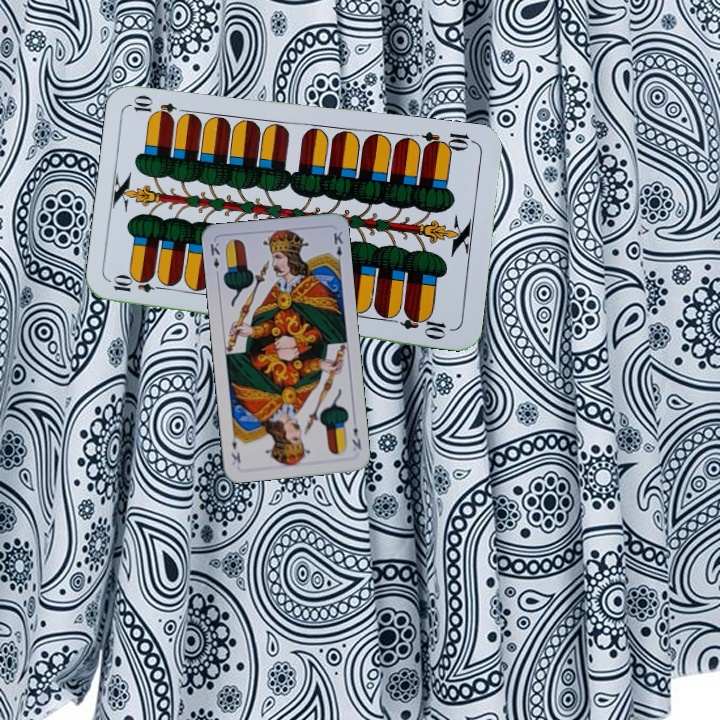E10: (419, 128, 478, 155), (109, 275, 169, 295)
EK: (206, 238, 222, 279), (348, 423, 364, 452)
